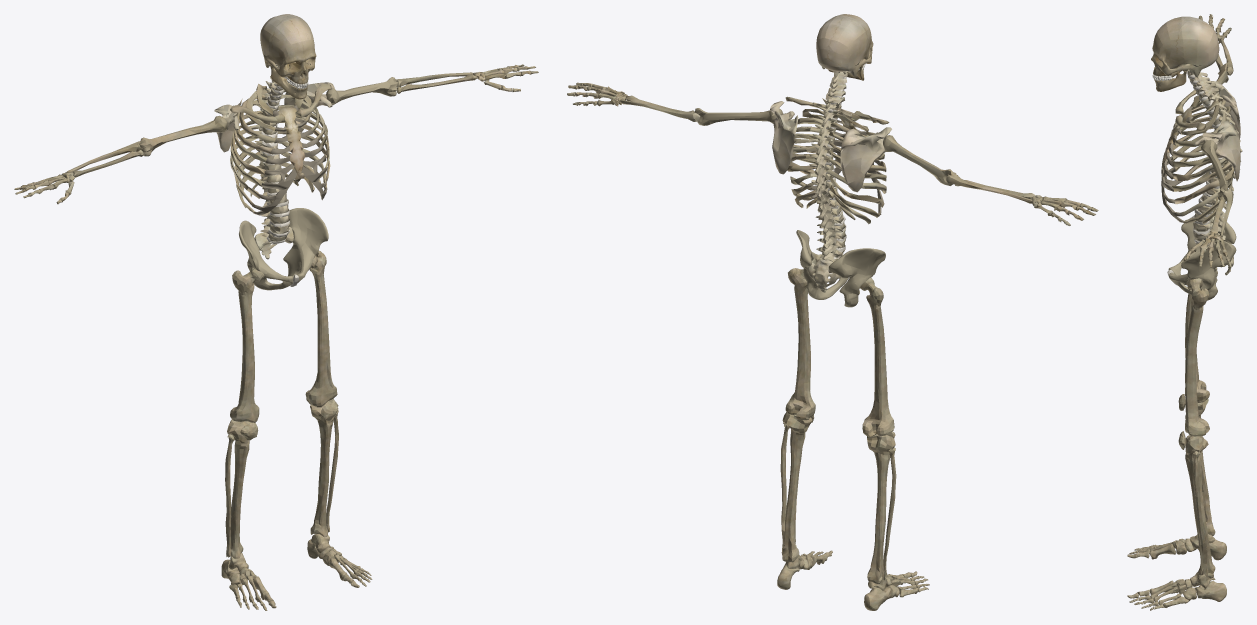
The model's file is Skeletal_System.fbx.
3 views of the same model, side by side, from view 1: azimuth 30°, elevation 25°; view 2: azimuth 150°, elevation 25°; view 3: azimuth 270°, elevation 25° (orthographic).
Parts seen in each view (by area): view 1: Male_Skeletal_Ribcage, Male_Skeletal_Lower_Limbs_Right, Male_Skeletal_Lower_Limbs_Left, Male_Skeletal_Hip, Male_Skeletal_Spine_and_Shoulders, Male_Skeletal_Skull, Male_Skeletal_Upper_Limbs_Right, Male_Skeletal_Upper_Limbs_Left; view 2: Male_Skeletal_Spine_and_Shoulders, Male_Skeletal_Lower_Limbs_Right, Male_Skeletal_Lower_Limbs_Left, Male_Skeletal_Ribcage, Male_Skeletal_Hip, Male_Skeletal_Skull, Male_Skeletal_Upper_Limbs_Right, Male_Skeletal_Upper_Limbs_Left; view 3: Male_Skeletal_Lower_Limbs_Left, Male_Skeletal_Ribcage, Male_Skeletal_Spine_and_Shoulders, Male_Skeletal_Skull, Male_Skeletal_Lower_Limbs_Right, Male_Skeletal_Hip, Male_Skeletal_Upper_Limbs_Left, Male_Skeletal_Upper_Limbs_Right, Male_Skeletal_Mandible.
Boxes of the visible parts, left/top/right/bottom form: Male_Skeletal_Ribcage: left=230, top=83, right=331, bottom=215; Male_Skeletal_Lower_Limbs_Right: left=221, top=267, right=276, bottom=610; Male_Skeletal_Lower_Limbs_Left: left=305, top=250, right=372, bottom=587; Male_Skeletal_Hip: left=239, top=208, right=328, bottom=290; Male_Skeletal_Spine_and_Shoulders: left=214, top=64, right=334, bottom=244; Male_Skeletal_Skull: left=260, top=14, right=316, bottom=84; Male_Skeletal_Upper_Limbs_Right: left=14, top=115, right=227, bottom=204; Male_Skeletal_Upper_Limbs_Left: left=326, top=64, right=538, bottom=105; Male_Skeletal_Spine_and_Shoulders: left=770, top=71, right=891, bottom=261; Male_Skeletal_Lower_Limbs_Right: left=860, top=277, right=929, bottom=610; Male_Skeletal_Lower_Limbs_Left: left=777, top=268, right=832, bottom=589; Male_Skeletal_Ribcage: left=785, top=96, right=889, bottom=224; Male_Skeletal_Hip: left=796, top=230, right=885, bottom=307; Male_Skeletal_Skull: left=816, top=14, right=873, bottom=76; Male_Skeletal_Upper_Limbs_Right: left=883, top=135, right=1098, bottom=225; Male_Skeletal_Upper_Limbs_Left: left=567, top=82, right=782, bottom=125; Male_Skeletal_Lower_Limbs_Left: left=1127, top=278, right=1226, bottom=610; Male_Skeletal_Ribcage: left=1161, top=87, right=1234, bottom=224; Male_Skeletal_Spine_and_Shoulders: left=1187, top=71, right=1242, bottom=248; Male_Skeletal_Skull: left=1151, top=16, right=1219, bottom=77; Male_Skeletal_Lower_Limbs_Right: left=1127, top=293, right=1226, bottom=560; Male_Skeletal_Hip: left=1167, top=216, right=1236, bottom=300; Male_Skeletal_Upper_Limbs_Left: left=1183, top=140, right=1233, bottom=267; Male_Skeletal_Upper_Limbs_Right: left=1198, top=14, right=1233, bottom=92; Male_Skeletal_Mandible: left=1154, top=70, right=1186, bottom=91.
Size of the model in its own units: 15.4 by 15.88 by 2.96.
Materials: 11 (8 with a texture image).
